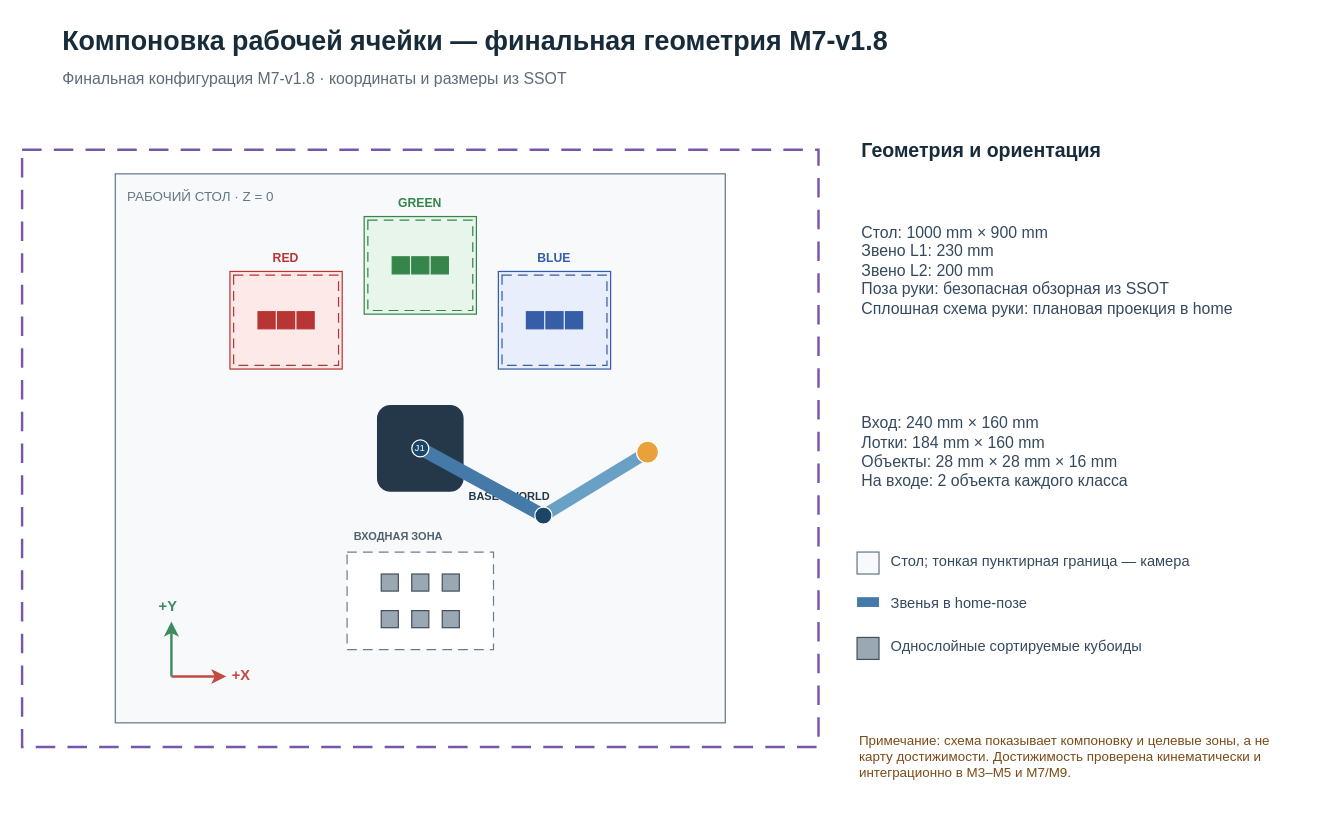
The diagram is 1338 pixels wide and 822 high, and some of its shapes have lost their labels. The shapes that lost their labels are listed below. From the top down, each one's centre as x and y in pixels, then its label:
At pixel 647 451: "TCP".
At pixel 543 515: "J2".
